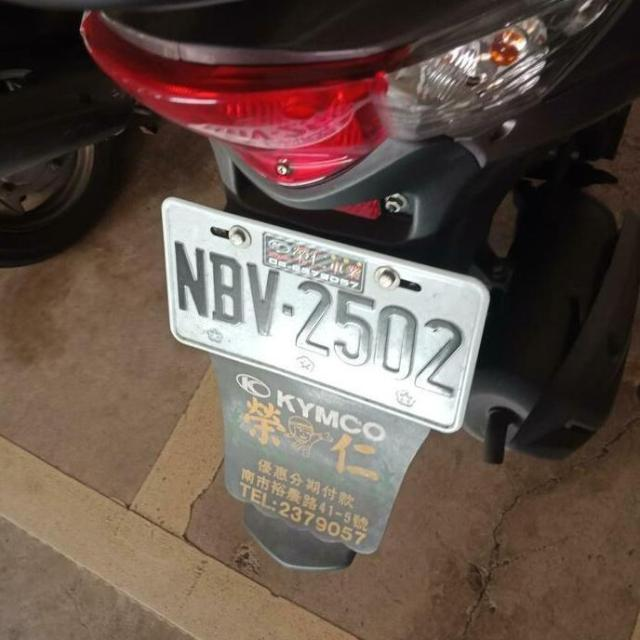W: (136, 190, 498, 444)
